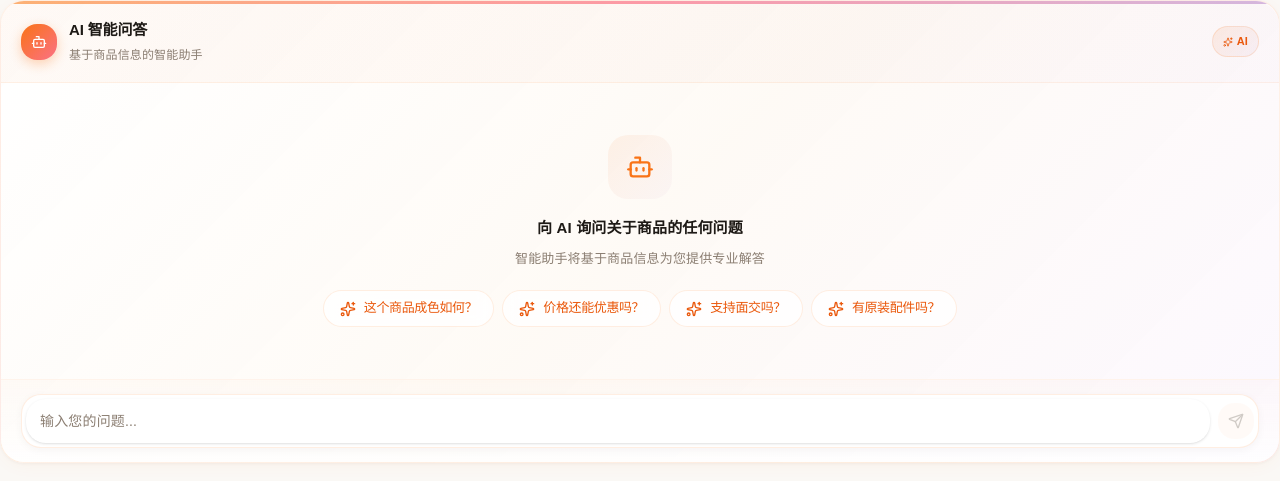
AiQaPanel › empty state › clicking suggested question fills input
The width and height of the screenshot is (1280, 481).
Step 1. Click the button "这个商品成色如何？" → (409, 309), box [323, 290, 494, 327]
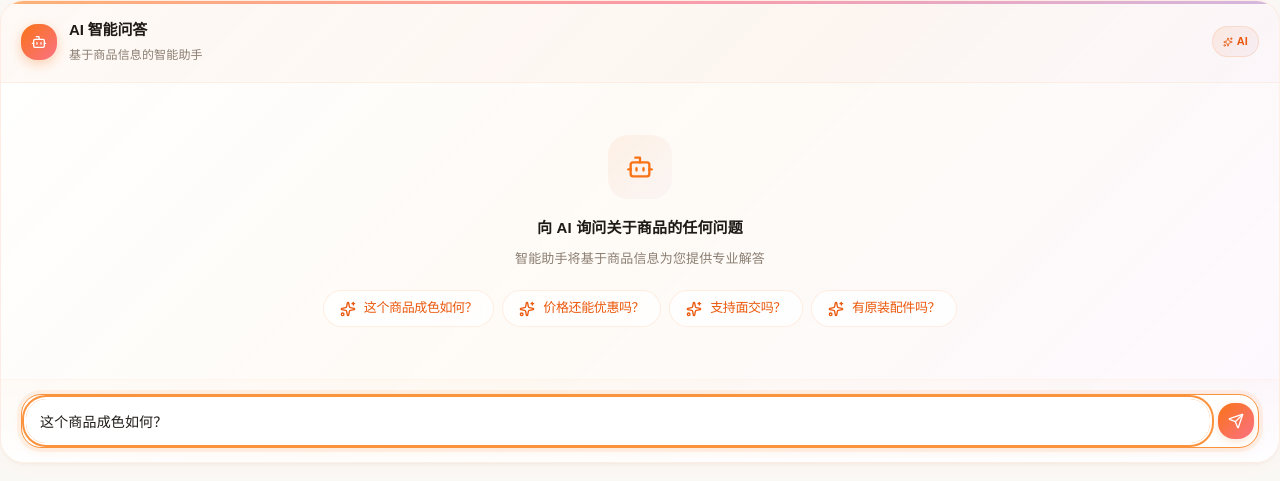
Check: the field with placeholder "输入您的问题..." holds "这个商品成色如何？", box [26, 399, 1210, 443]
